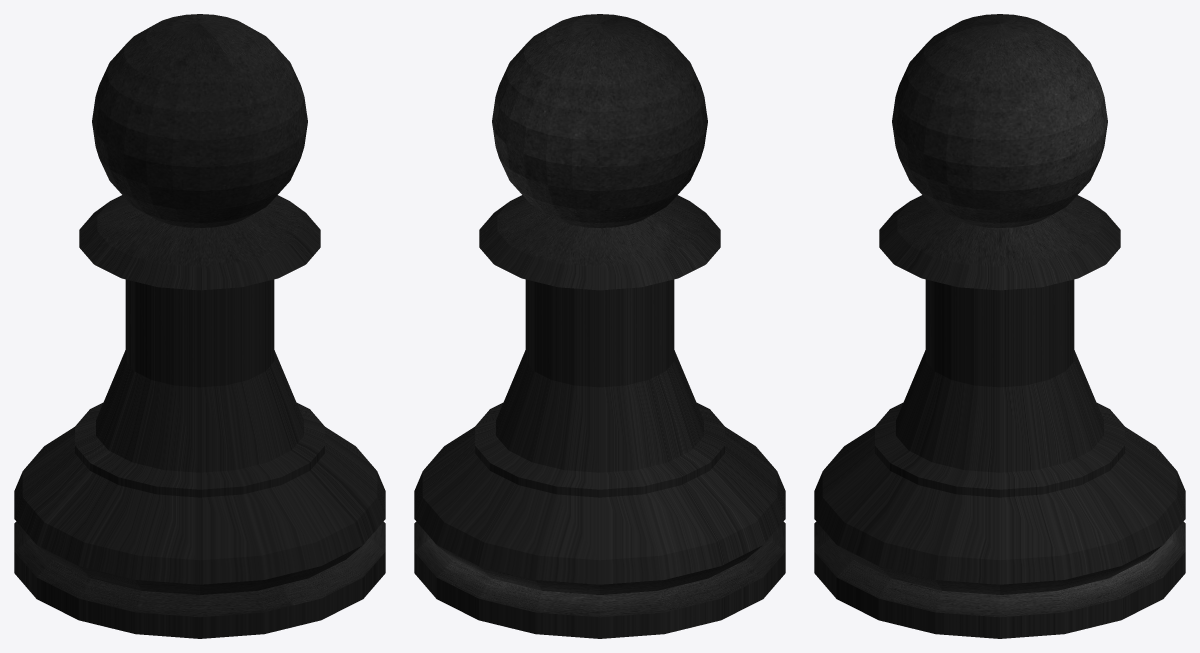
The model's file is b_pawn_5.obj.
The picture shows the model from 3 angles, left to right: view 1: azimuth 30°, elevation 25°; view 2: azimuth 150°, elevation 25°; view 3: azimuth 270°, elevation 25°; orthographic projection.
Bounding box in the file's own units: 0.1443 × 0.2323 × 0.1422.
1 material, 1 textured.
